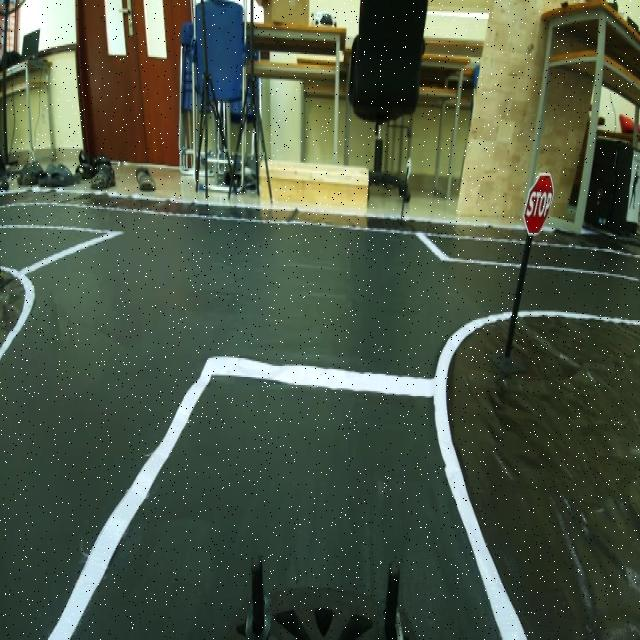stop: (518, 162, 559, 244)
